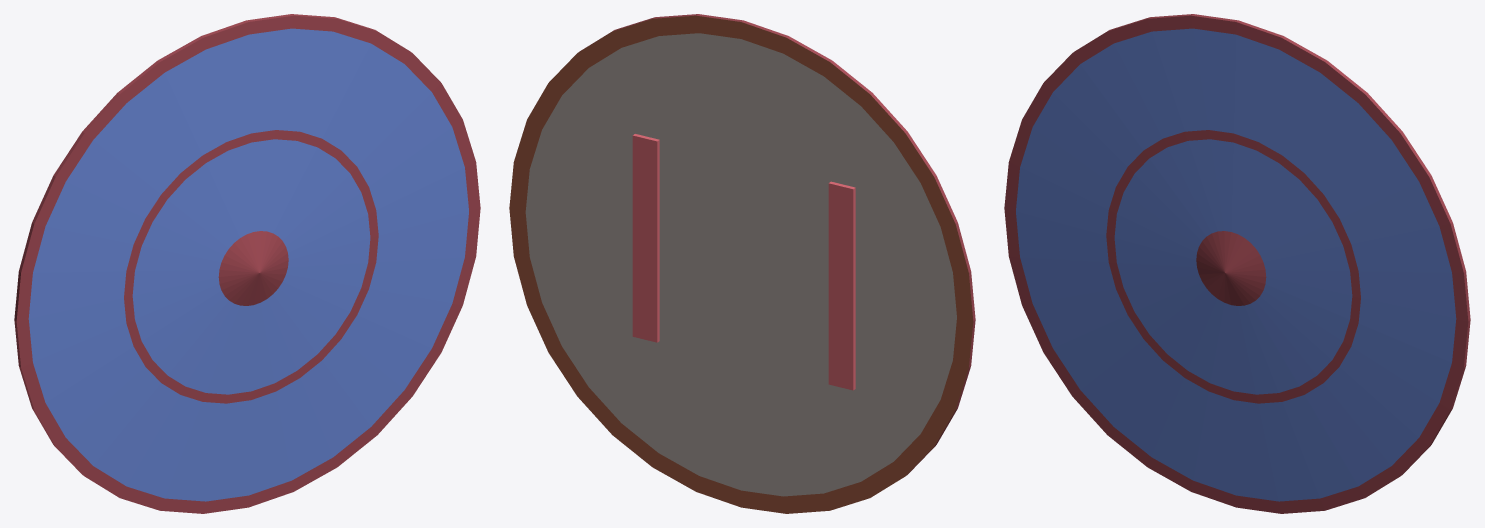
Rendered from Shield.glb.
3 renders of one model, left to right at view 1: azimuth 30°, elevation 25°; view 2: azimuth 150°, elevation 25°; view 3: azimuth 330°, elevation 25°, orthographic.
Visible parts, largest first — view 1: Cone; view 2: Cone, Cube.001, Cube; view 3: Cone.
Part boxes in pixels (x1=…): Cone: x1=14, y1=14, x2=480, y2=513; Cone: x1=509, y1=14, x2=975, y2=513; Cube.001: x1=632, y1=134, x2=659, y2=342; Cube: x1=828, y1=181, x2=855, y2=390; Cone: x1=1004, y1=14, x2=1470, y2=513.
Bounding box in the file's own units: 1.33 × 1.33 × 0.0785.
